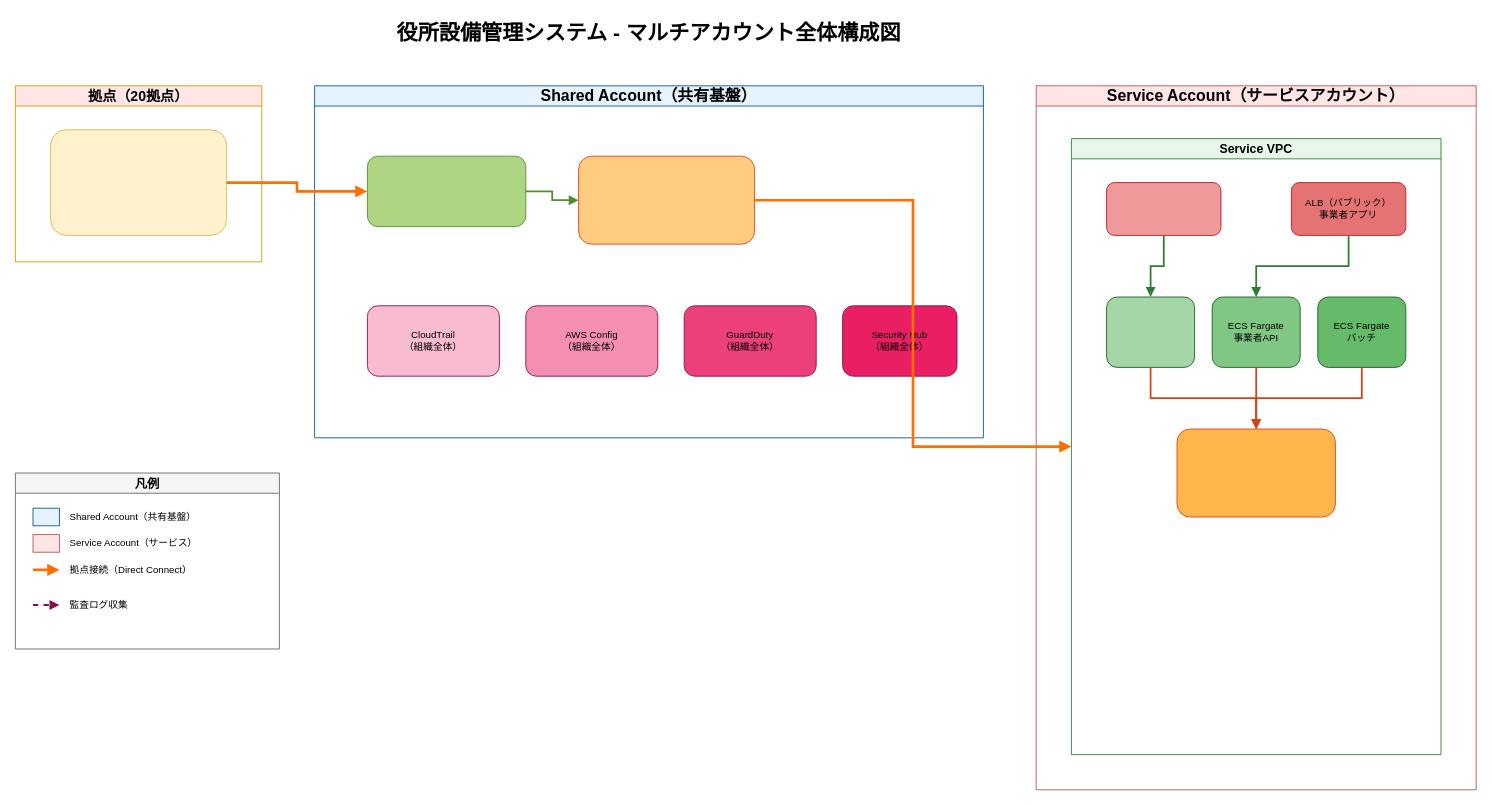
The diagram is 1492 pixels wide and 805 high, and some of its shapes have lost their labels. The centre of each missing label's shape, as x and y in pixels:
ALB（内部） 業務アプリ: pixel 1163 208
Direct Connect Gateway: pixel 446 191
ECS Fargate 業務API: pixel 1150 331
RDS PostgreSQL 14 マルチAZ構成: pixel 1255 472
Transit Gateway ネットワークハブ: pixel 666 199
拠点端末 （各拠点100台） 合計2,000台: pixel 138 182
